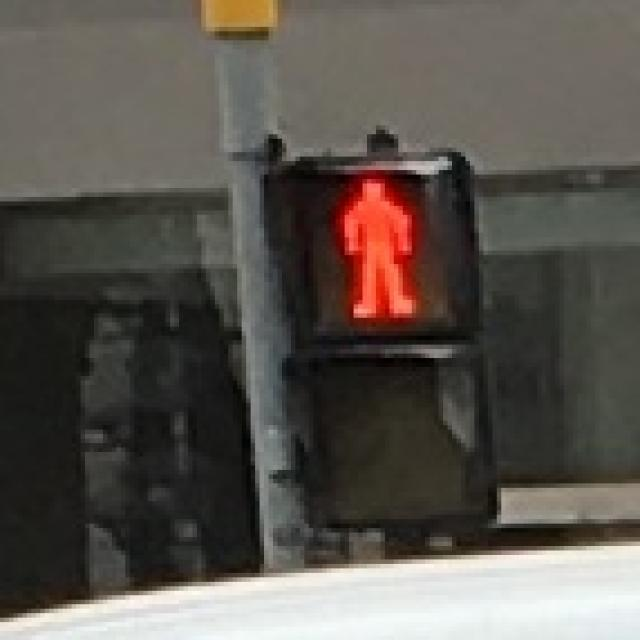red-crossing: (291, 161, 452, 322)
